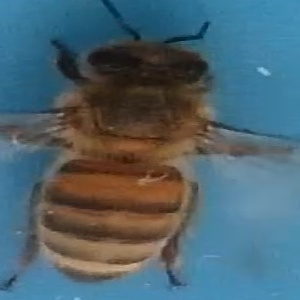bee: (7, 17, 242, 300)
